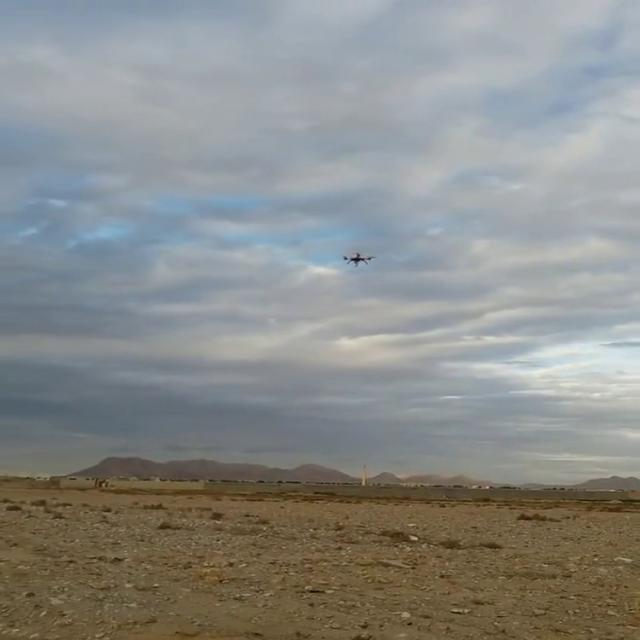drone: (335, 248, 375, 272)
